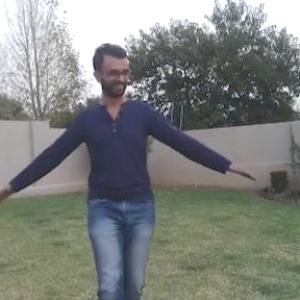land: (10, 41, 252, 299)
